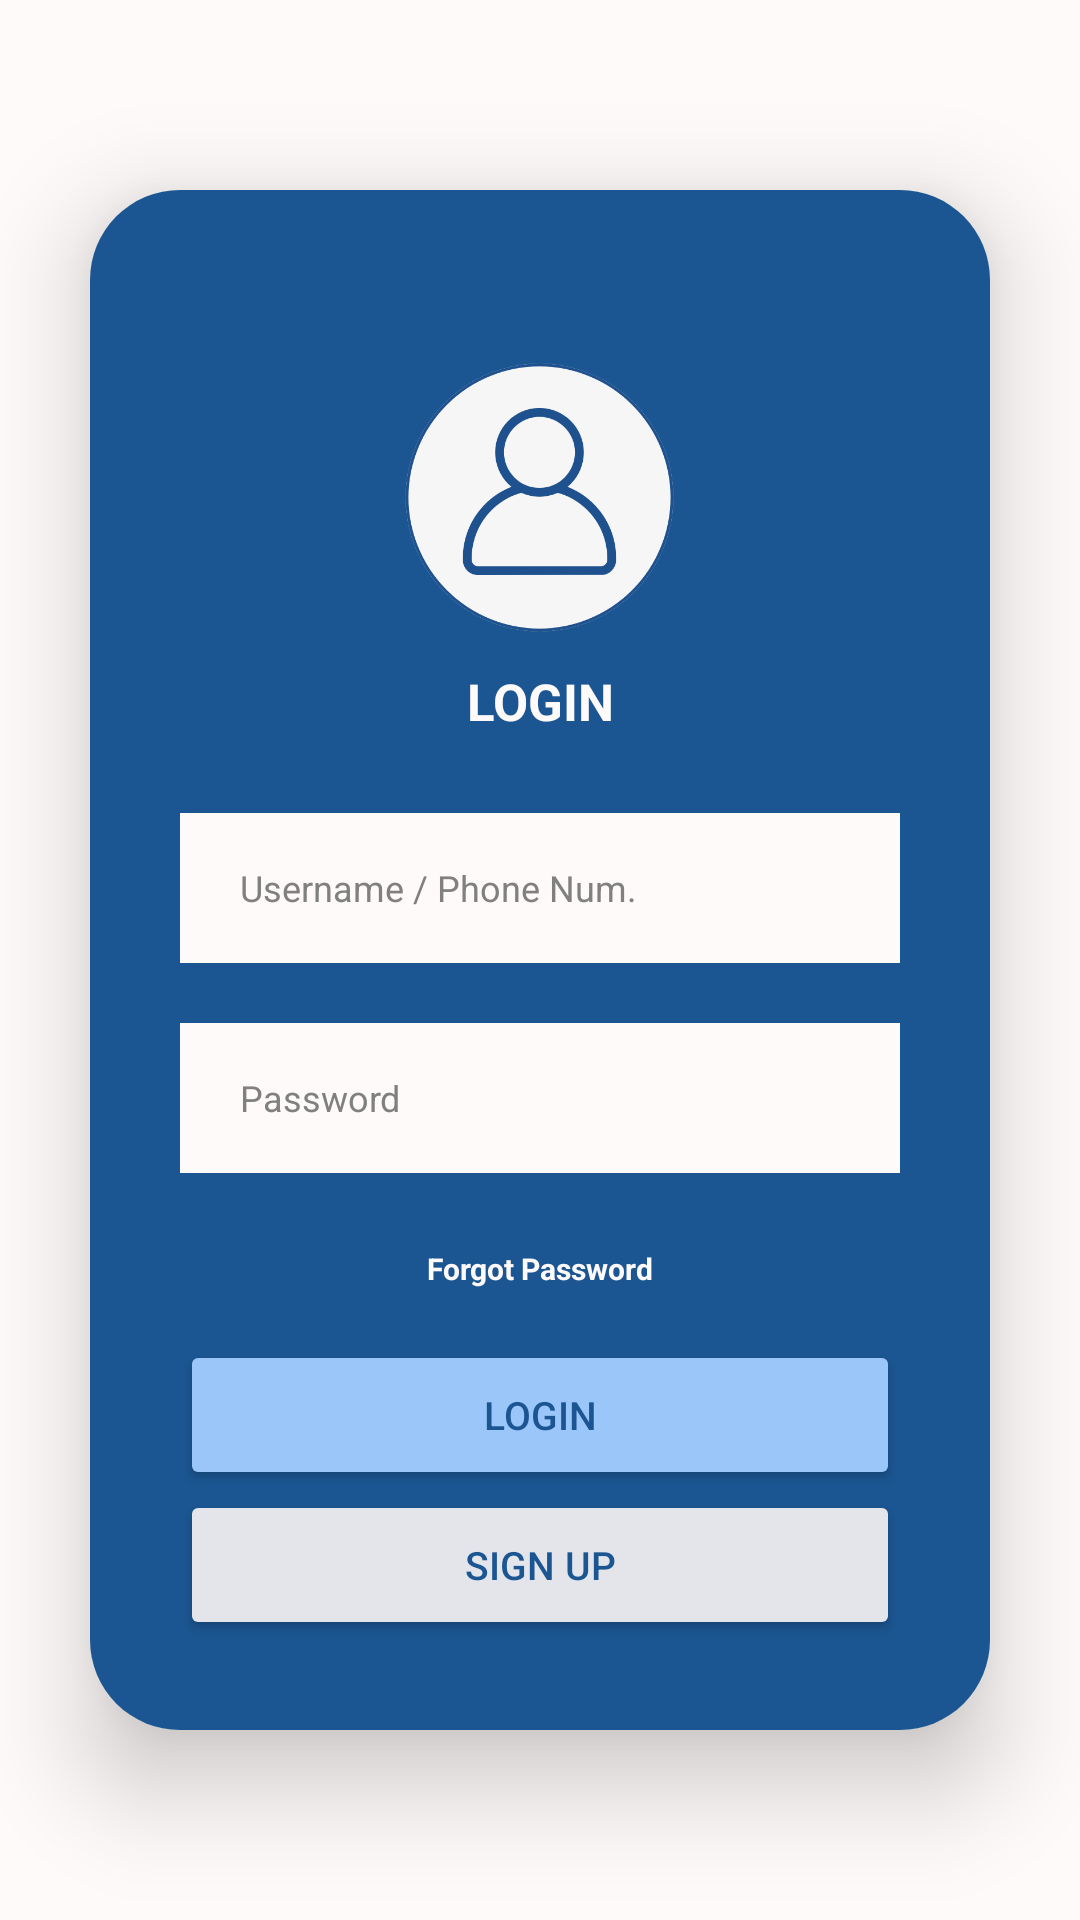

Locate icon controls on the screen. Image size 1080*1920, boxes as bbox(x1, y1, x2, y2).
person: bbox(406, 364, 673, 631)
